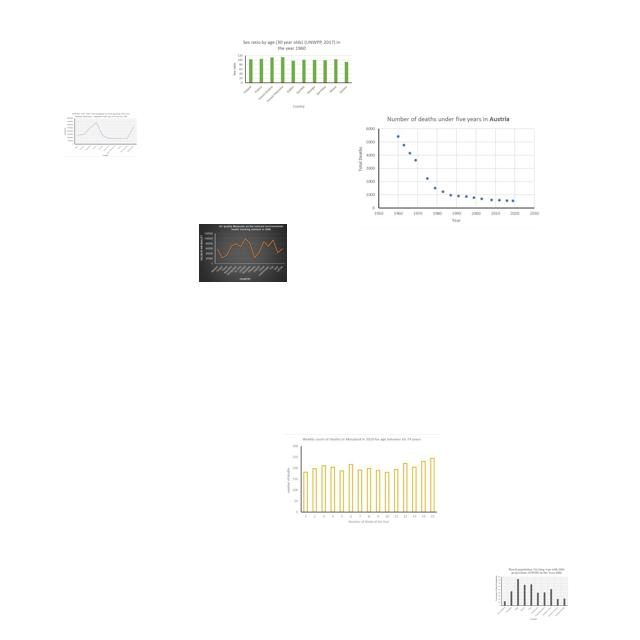Graph: (354, 112, 543, 229), (283, 434, 441, 528), (230, 38, 354, 110), (199, 224, 287, 282), (494, 567, 569, 621), (64, 112, 138, 157)
